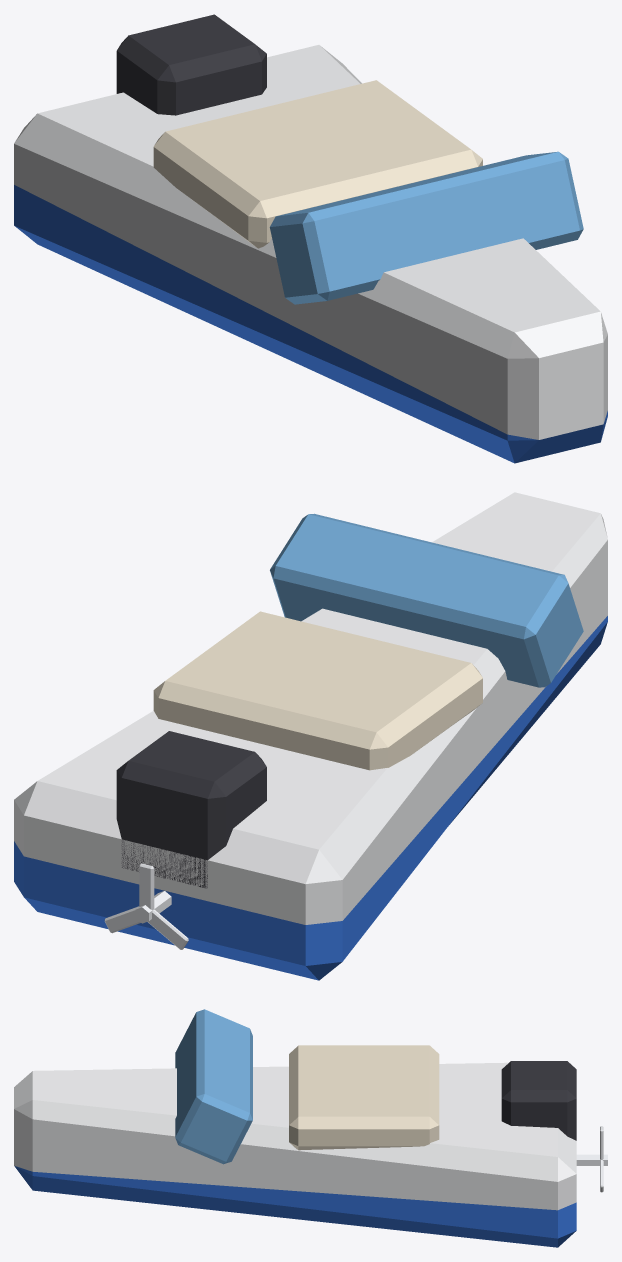
File: Speedboat.fbx
The picture shows the model from 3 angles, top to bottom: view 1: azimuth 30°, elevation 25°; view 2: azimuth 150°, elevation 25°; view 3: azimuth 270°, elevation 25°; orthographic projection. The views are drawn at different scales.
Parts seen in each view (by area): view 1: Speedboat; view 2: Speedboat, Speedboat_Propeller; view 3: Speedboat, Speedboat_Propeller.
Part boxes in pixels (x1,y1,x2,y2): Speedboat: [14, 14, 607, 463]; Speedboat: [14, 492, 607, 980]; Speedboat_Propeller: [104, 863, 188, 949]; Speedboat: [14, 1009, 576, 1247]; Speedboat_Propeller: [576, 1126, 607, 1192].
Bounding box in the file's own units: 4.2 × 2.62 × 9.5.
Materials: 1 (1 with a texture image).
